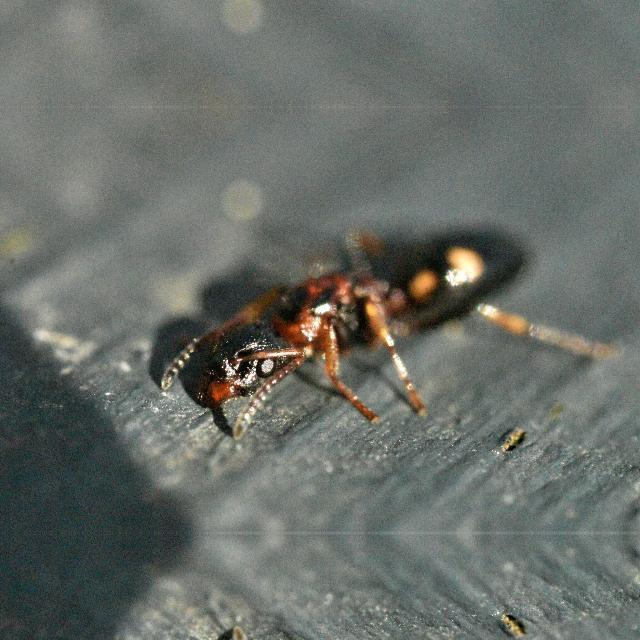Dolichoderus: (157, 200, 543, 442)
